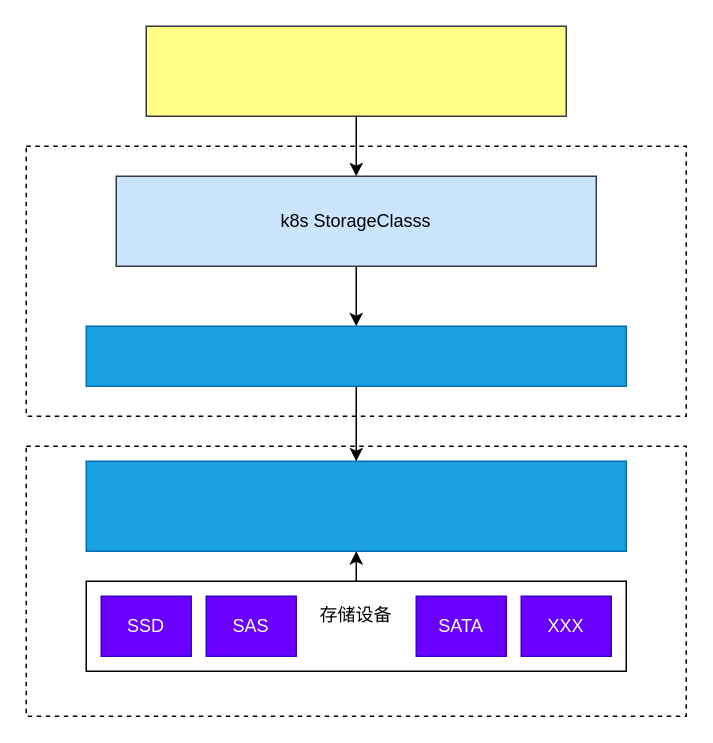
The diagram is 713 pixels wide and 743 high, and some of its shapes have lost their labels. The box of each missing label's shape, as (x1, y1, x2, y2) in pixels:
k8s localstorage-class: (85, 325, 626, 386)
LVM的磁盘挂载: (85, 460, 626, 551)
业务的存储需求: (145, 25, 566, 116)
